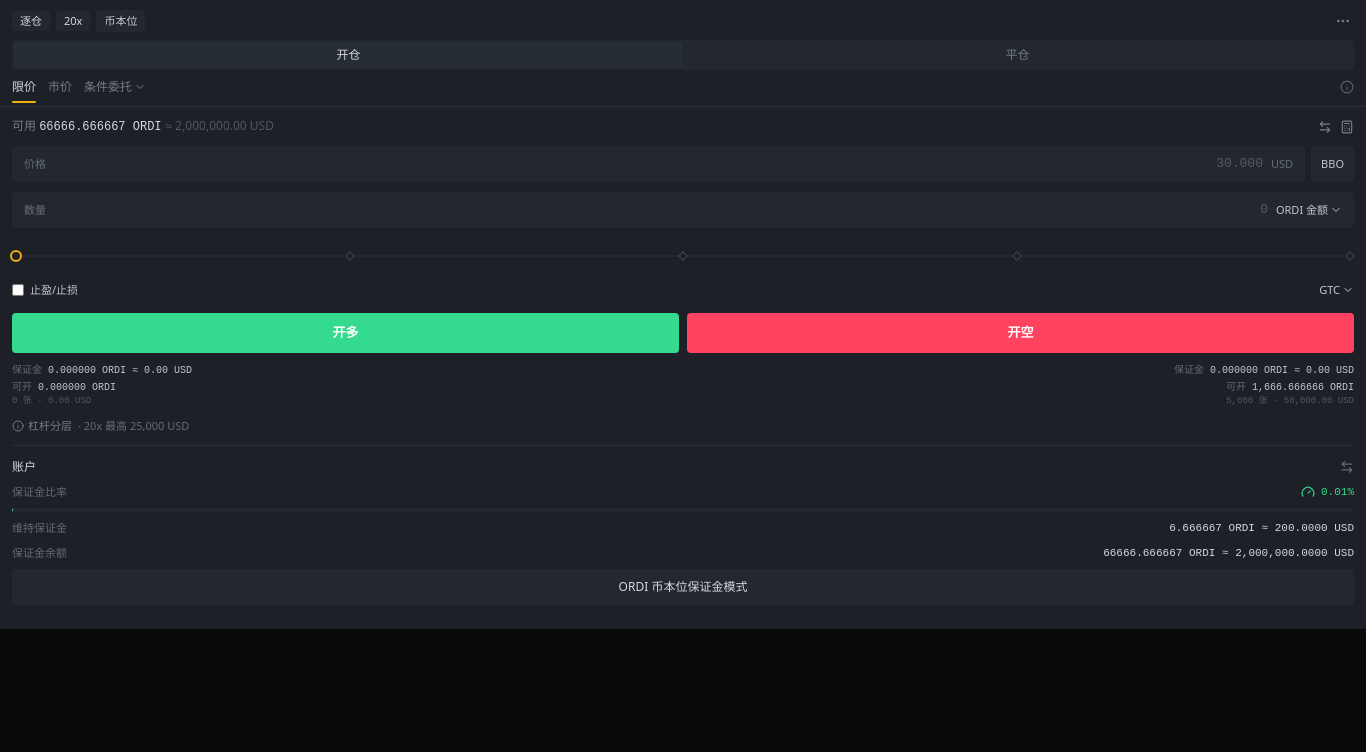
下单面板：对冲无限制模式下开的仓位 › ORDIUSD 20x 的 unlimited-v1 多仓 5,000 张：开空 1,000 张——灰字说「对冲无限制模式下开的仓位」
The image size is (1366, 752).
Step 1. Click the button "市价" → (60, 90), box [48,78,72,102]
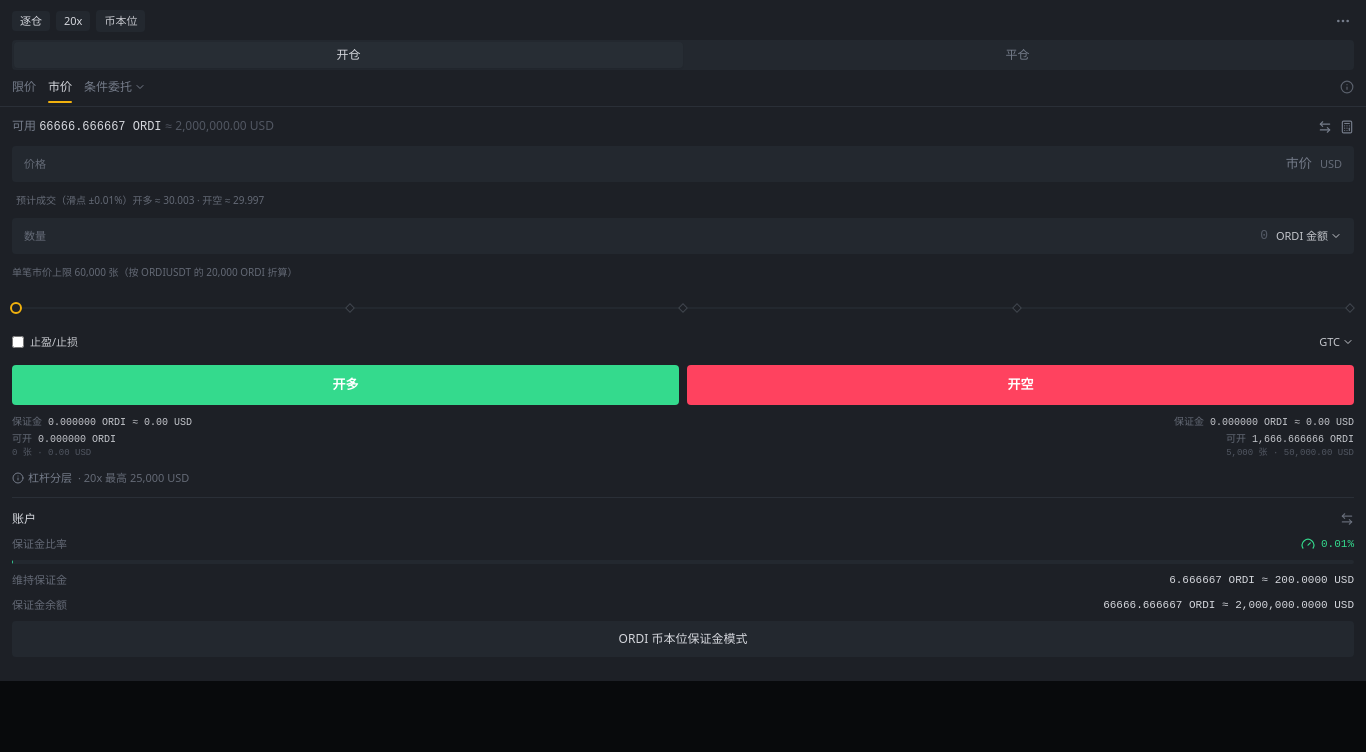
Step 2. Click the button with test id "unit-preference-trigger" → (1309, 236), box [1276,228,1342,244]
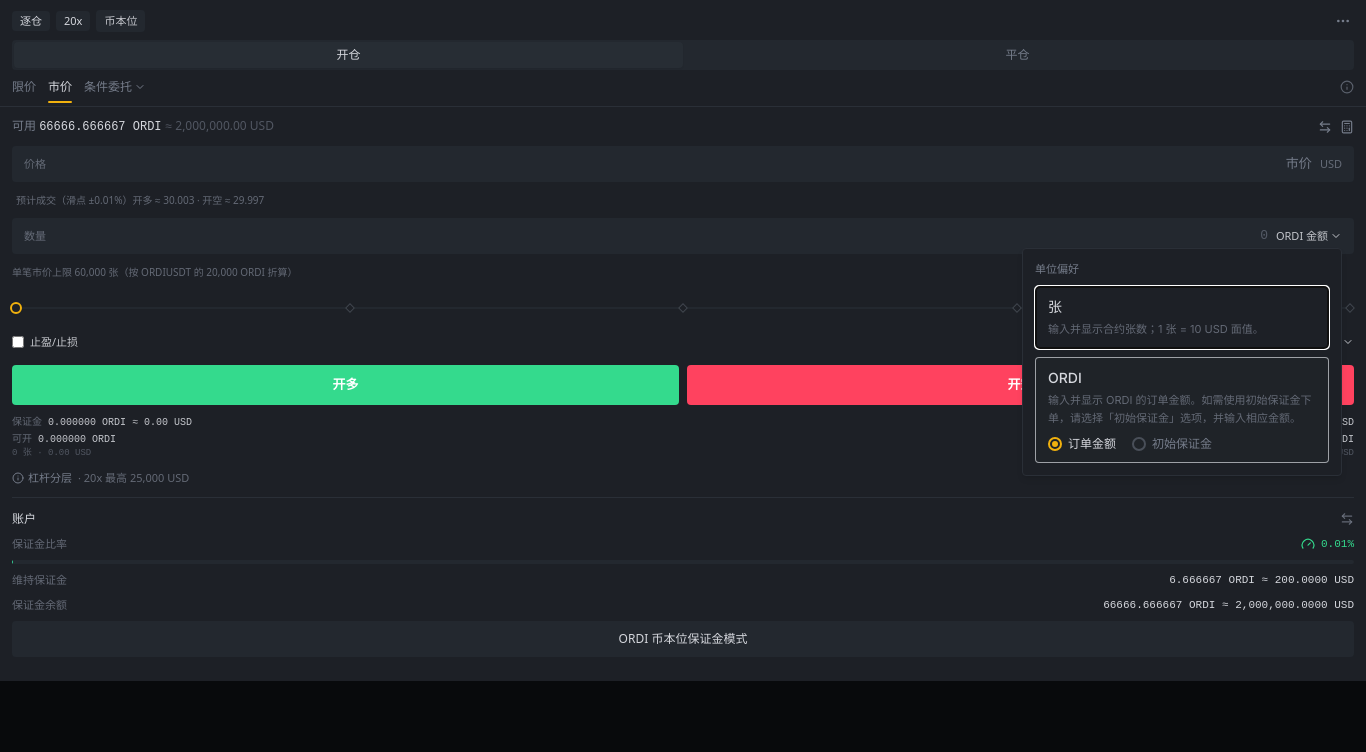
Step 3. Click the button with test id "unit-card-CONTRACTS" → (1156, 328), box [1035,286,1329,349]
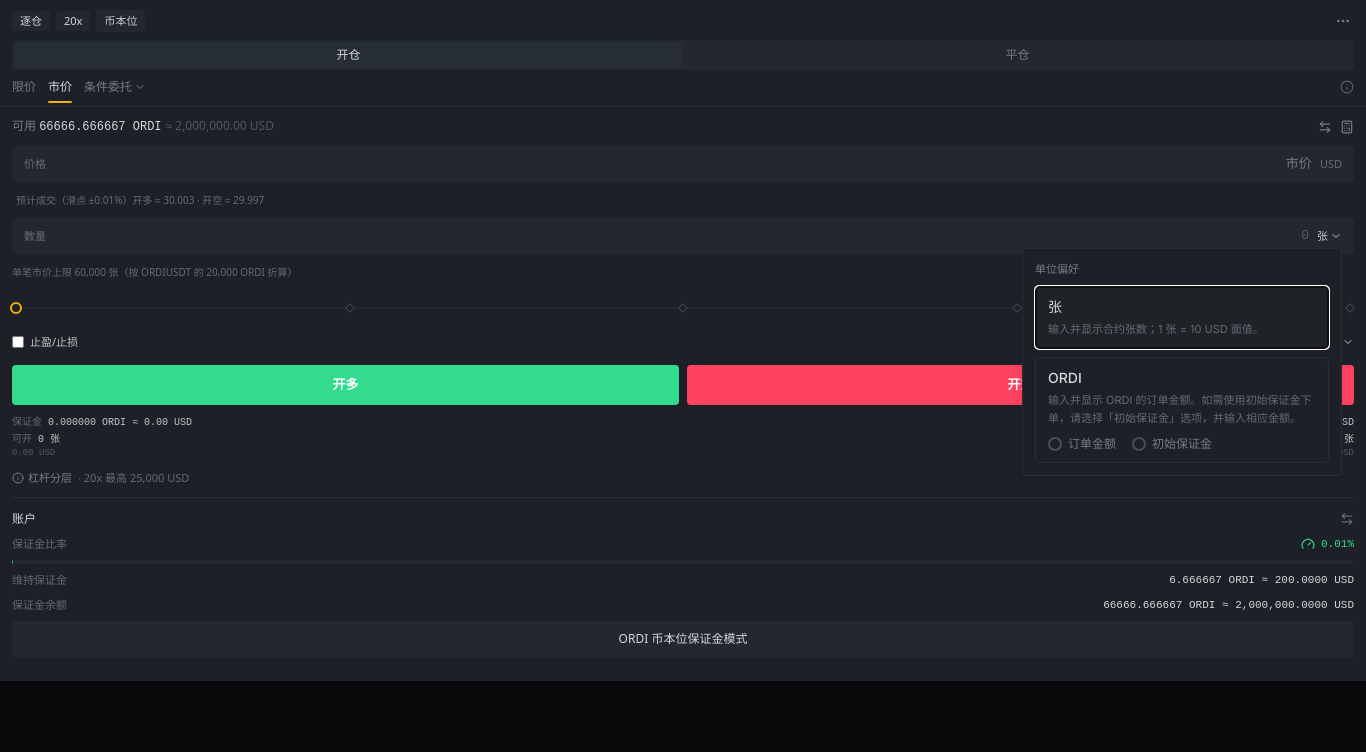
Step 4. Type "1000" into the field with test id "order-qty-input" → (682, 236), box [54,226,1309,246]
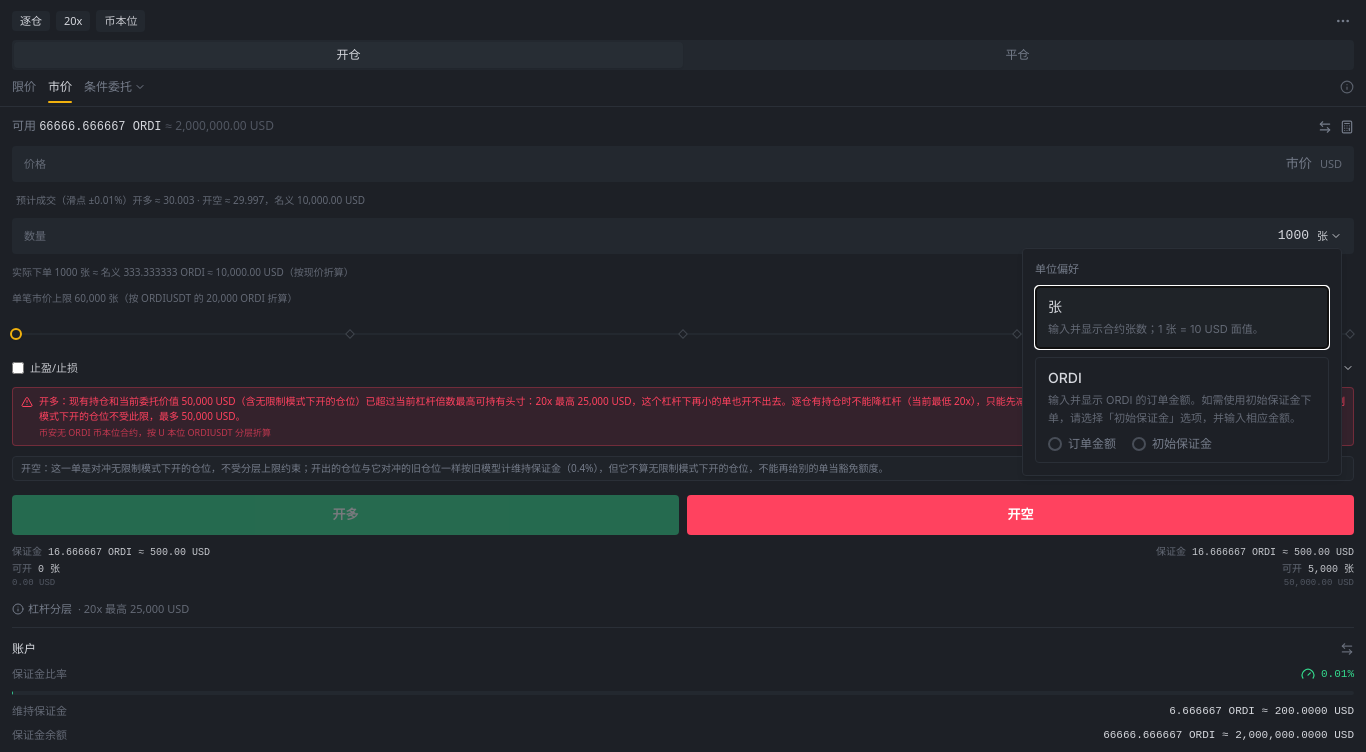
Result: the element with test id "position-limit-warning" shows "反向开仓对冲无限制模式下开的仓位不受此限" at [39,394,1345,422]
Result: the text with test id "legacy-hedge-note" shows "开空：这一单是对冲无限制模式下开的仓位，不受分层上限约束" at [21,461,888,475]
Result: the text with test id "legacy-hedge-note" shows "但它不算无限制模式下开的仓位" at [21,461,888,475]
